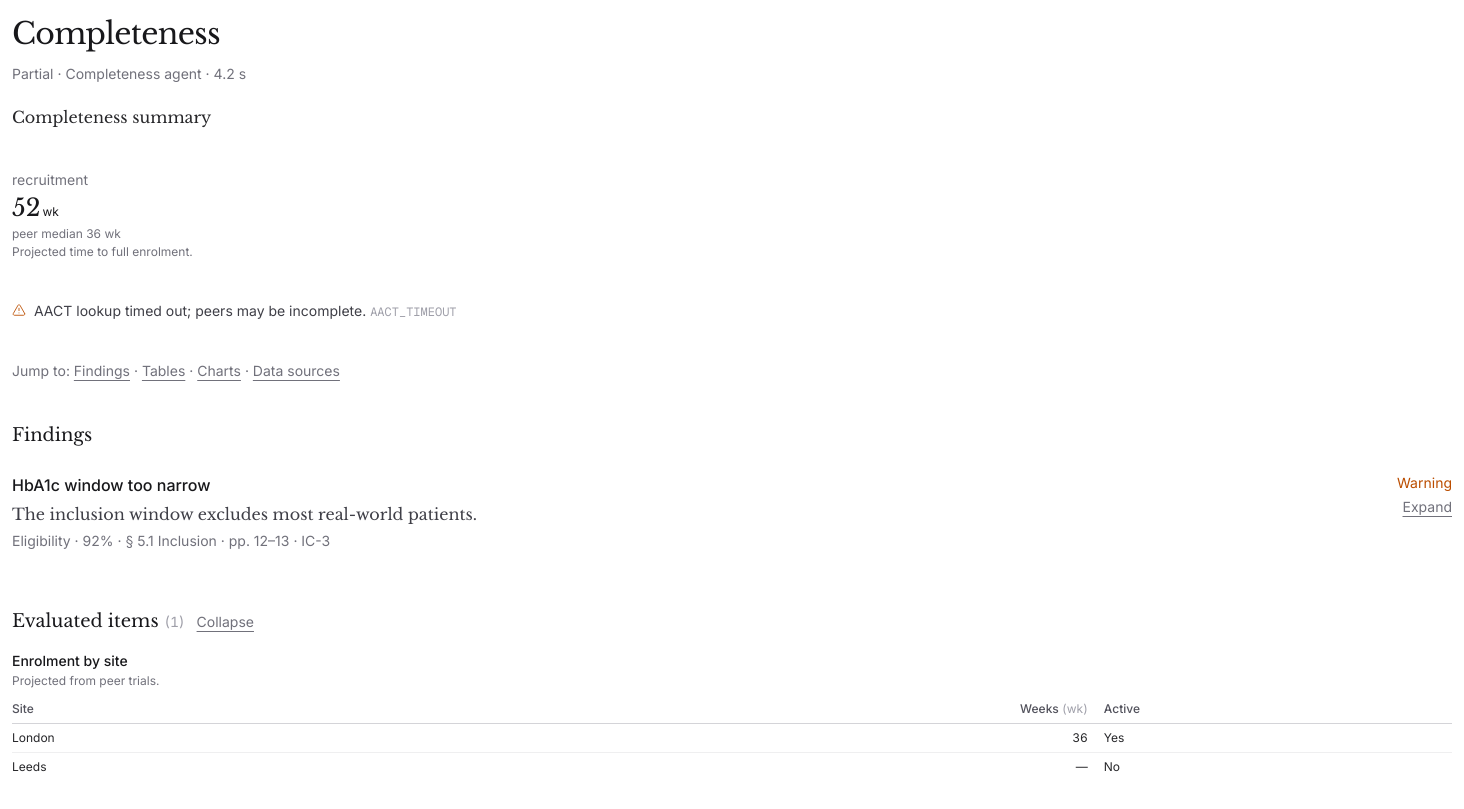
Test: StepView rich step details › shows every evaluated item and chart open, and lets them fold
Expected: the table named "Enrolment by site" is shown, [12,694,1452,780]
Click the button with aria-label "Evaluated items".
click(225, 622)  # box [197,612,254,632]
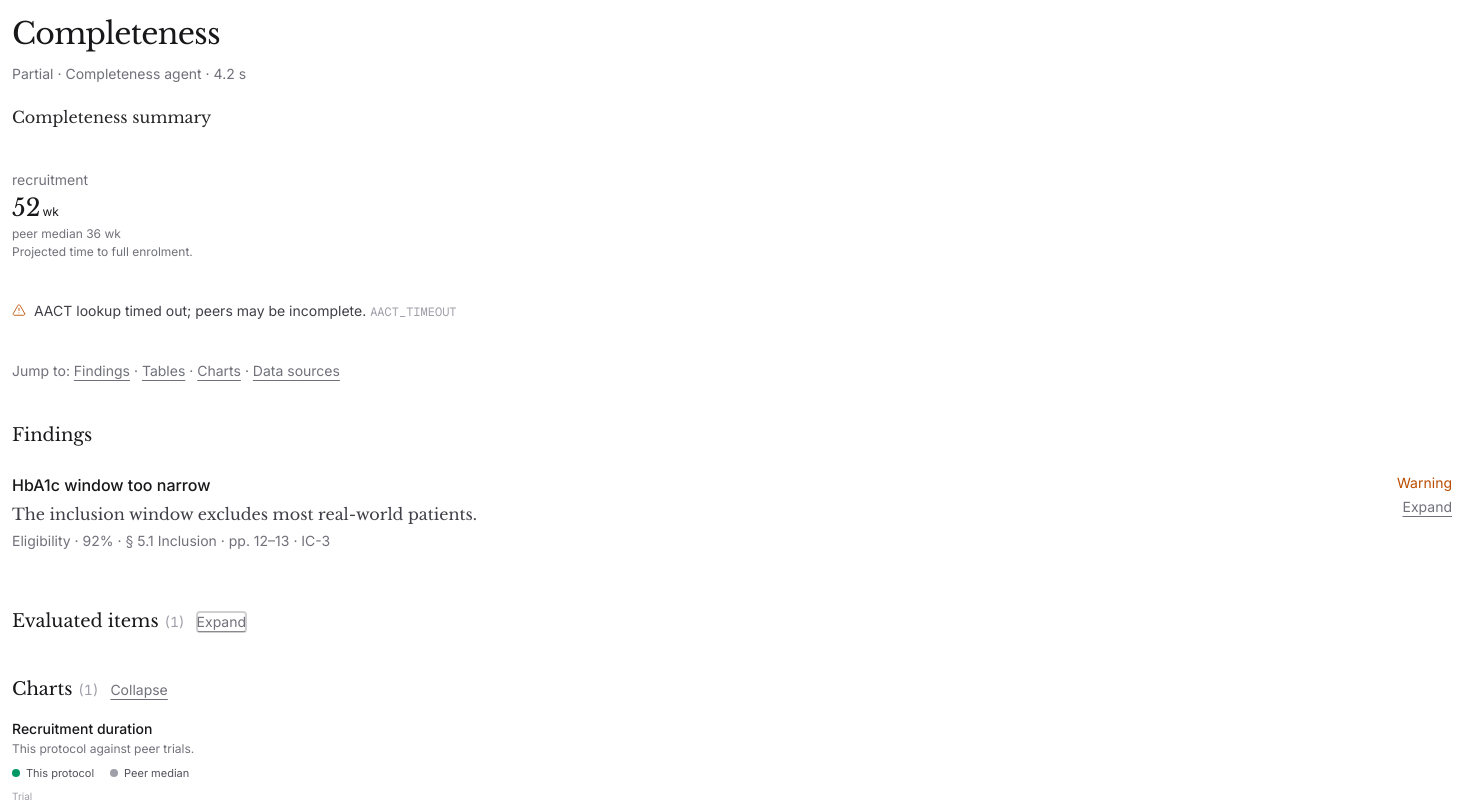
Result: the table is gone
